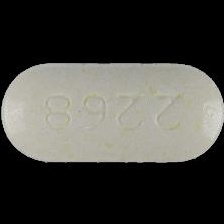61919-424: (0, 0, 224, 224)
